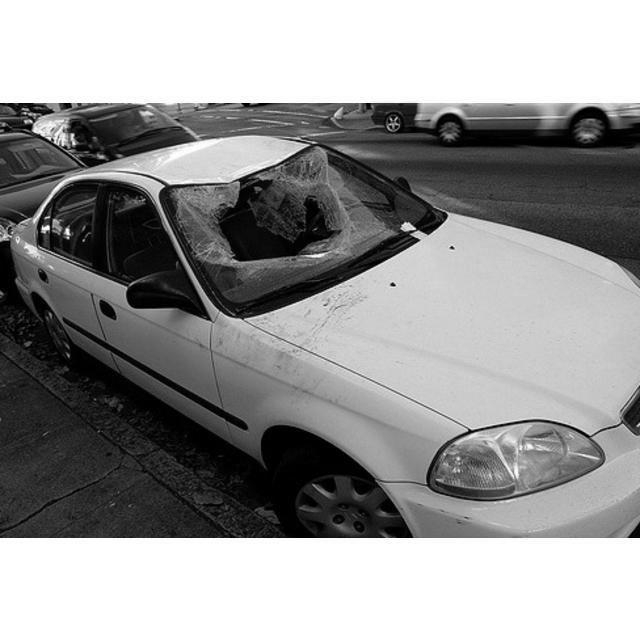Front-windscreen-damage: (161, 145, 406, 298)
roof-dent: (60, 120, 328, 182)
